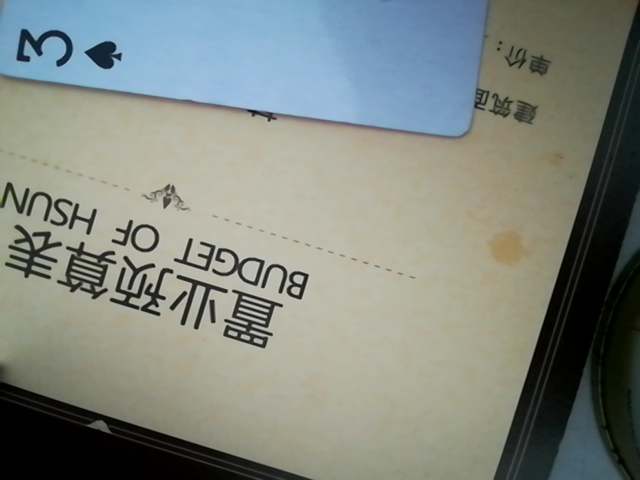ht 3: (0, 0, 530, 141)
